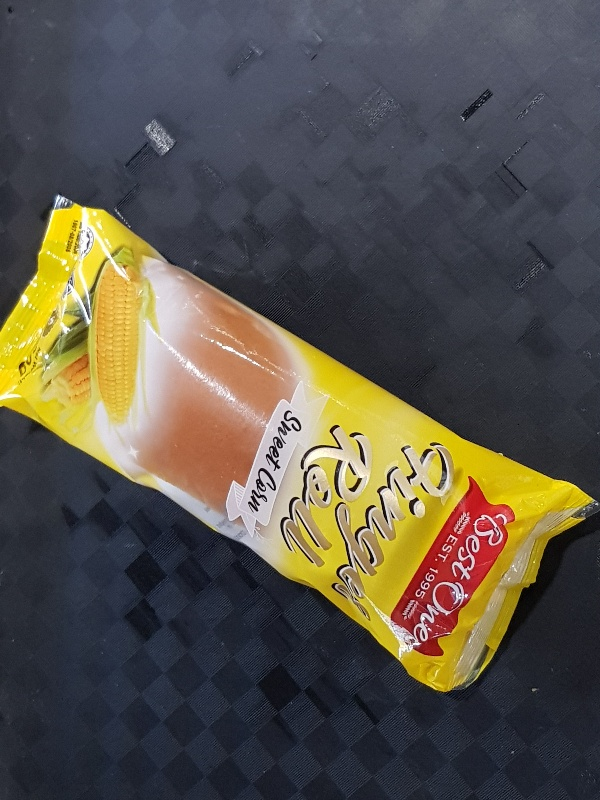Tinges Roll Sweet Corn: (2, 189, 594, 695)
